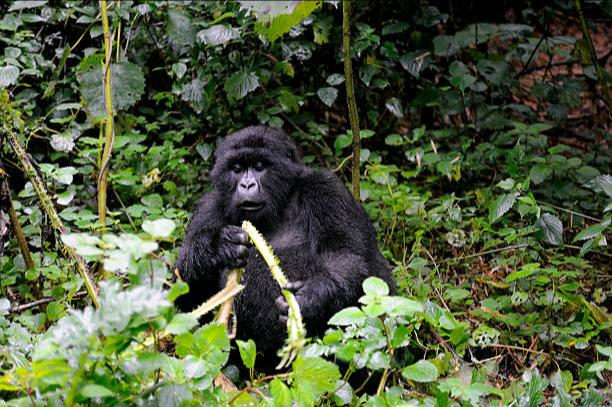goriile_montagne: (196, 124, 382, 338)
